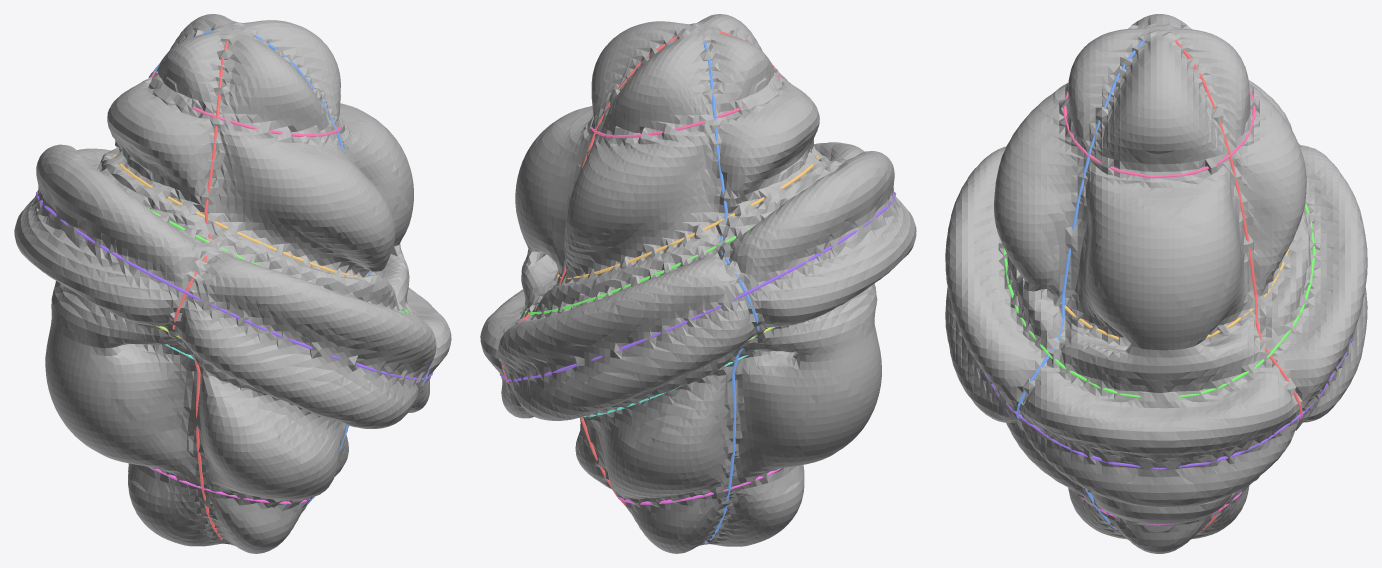
File: flowrep_ellipsetorus.gltf
The picture shows the model from 3 angles, left to right: view 1: azimuth 30°, elevation 25°; view 2: azimuth 150°, elevation 25°; view 3: azimuth 270°, elevation 25°; orthographic projection.
Size of the model in its own units: 0.5527 by 0.7118 by 0.5349.
